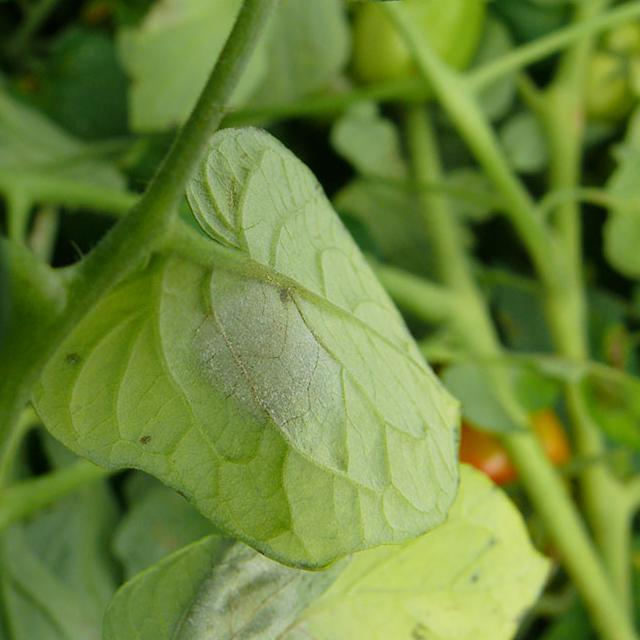Tomato leaf late blight: (26, 116, 460, 552), (43, 453, 586, 640)
